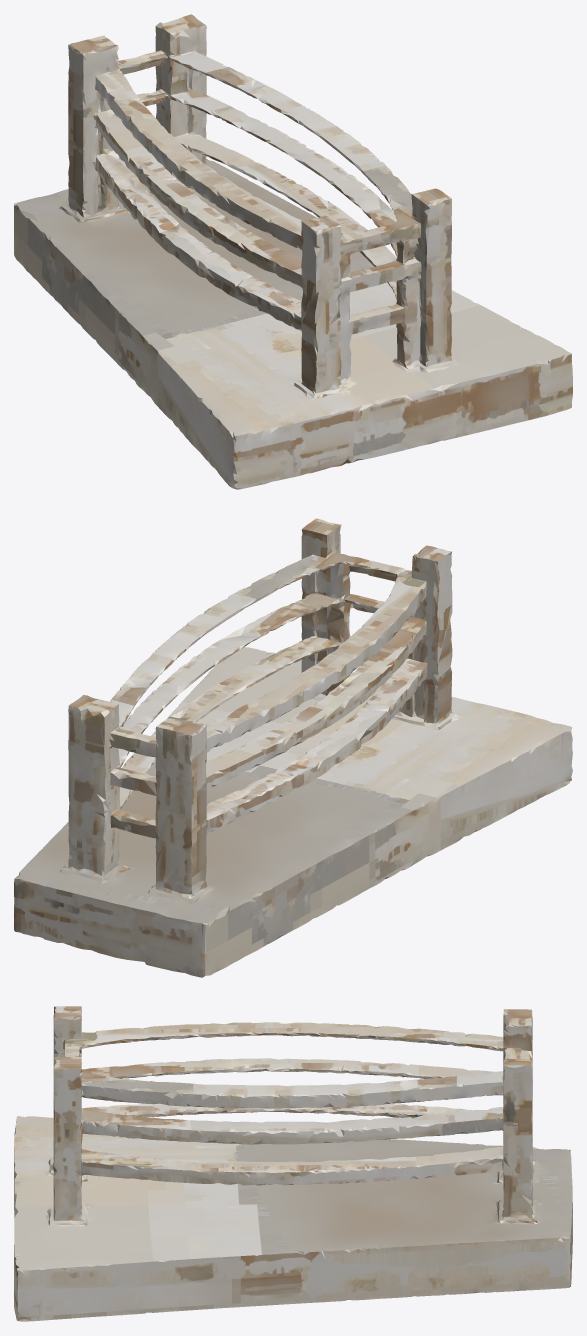
File: street_obstacle.gltf
3 views of the same model, one above another, from view 1: azimuth 30°, elevation 25°; view 2: azimuth 150°, elevation 25°; view 3: azimuth 270°, elevation 25° (orthographic). The views are drawn at different scales.
Visible parts, largest first — view 1: StreetObstacle; view 2: StreetObstacle; view 3: StreetObstacle.
Part boxes in pixels (x1,y1,x2,y2): StreetObstacle: (14,14,572,489); StreetObstacle: (14,518,572,977); StreetObstacle: (14,1006,572,1321).
Bounding box in the file's own units: 1.87 × 1.16 × 2.84.
1 material, 1 textured.
